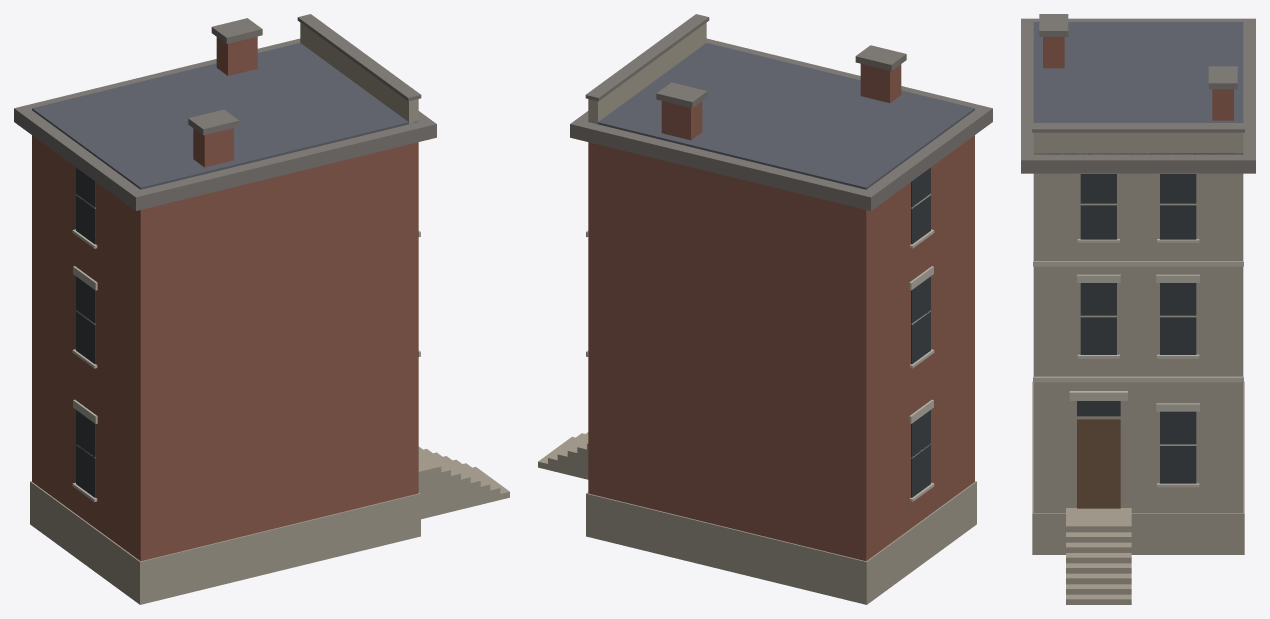
The model's file is house_1807_indiana__draft_1904.glb.
3 renders of one model, left to right at view 1: azimuth 30°, elevation 25°; view 2: azimuth 150°, elevation 25°; view 3: azimuth 270°, elevation 25°, orthographic. The views are drawn at different scales.
Parts seen in each view (by area): view 1: house_1807_indiana__draft_1904; view 2: house_1807_indiana__draft_1904; view 3: house_1807_indiana__draft_1904.
Boxes of the visible parts, bbox=[...] form: house_1807_indiana__draft_1904: bbox=[14, 14, 509, 604]; house_1807_indiana__draft_1904: bbox=[538, 14, 992, 604]; house_1807_indiana__draft_1904: bbox=[1021, 14, 1255, 604].
Bounding box in the file's own units: 12.15 × 13.34 × 6.45.
